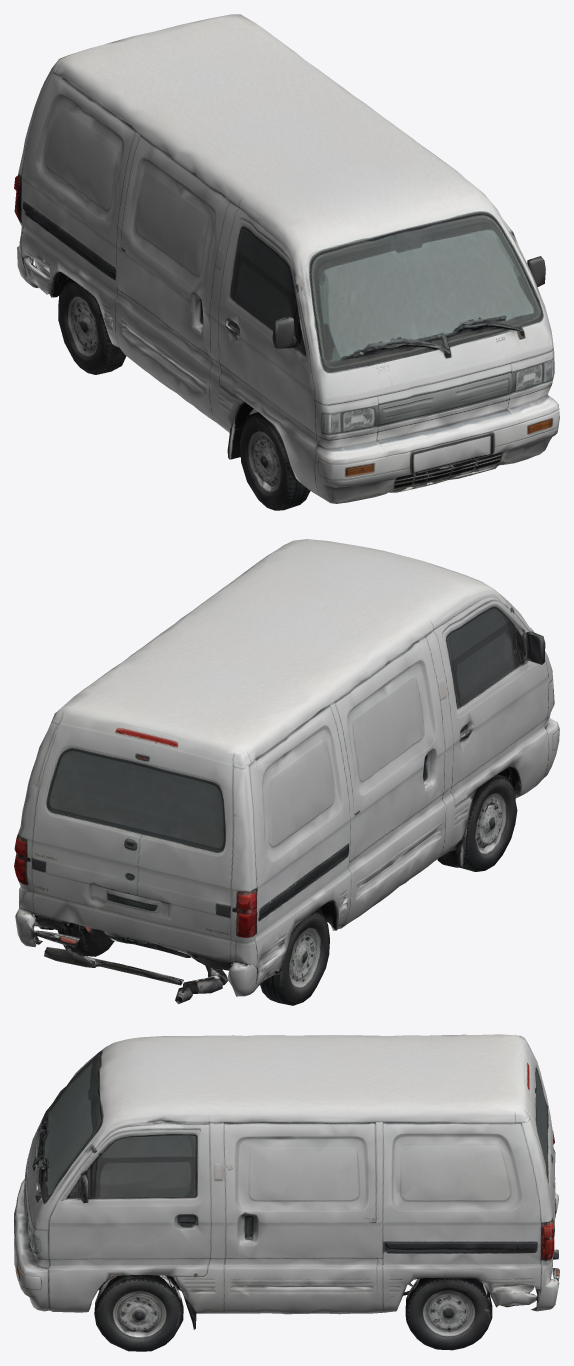
File: van.glb
3 renders of one model, top to bottom at view 1: azimuth 30°, elevation 25°; view 2: azimuth 150°, elevation 25°; view 3: azimuth 270°, elevation 25°, orthographic. The views are drawn at different scales.
Parts seen in each view (by area): view 1: texture_mapping; view 2: texture_mapping; view 3: texture_mapping.
Part boxes in pixels (left/top/right/bottom): texture_mapping: left=14, top=14, right=559, bottom=510; texture_mapping: left=14, top=539, right=559, bottom=1005; texture_mapping: left=14, top=1034, right=559, bottom=1351.
Bounding box in the file's own units: 0.4788 × 0.4833 × 0.9955.
1 material, 1 textured.
